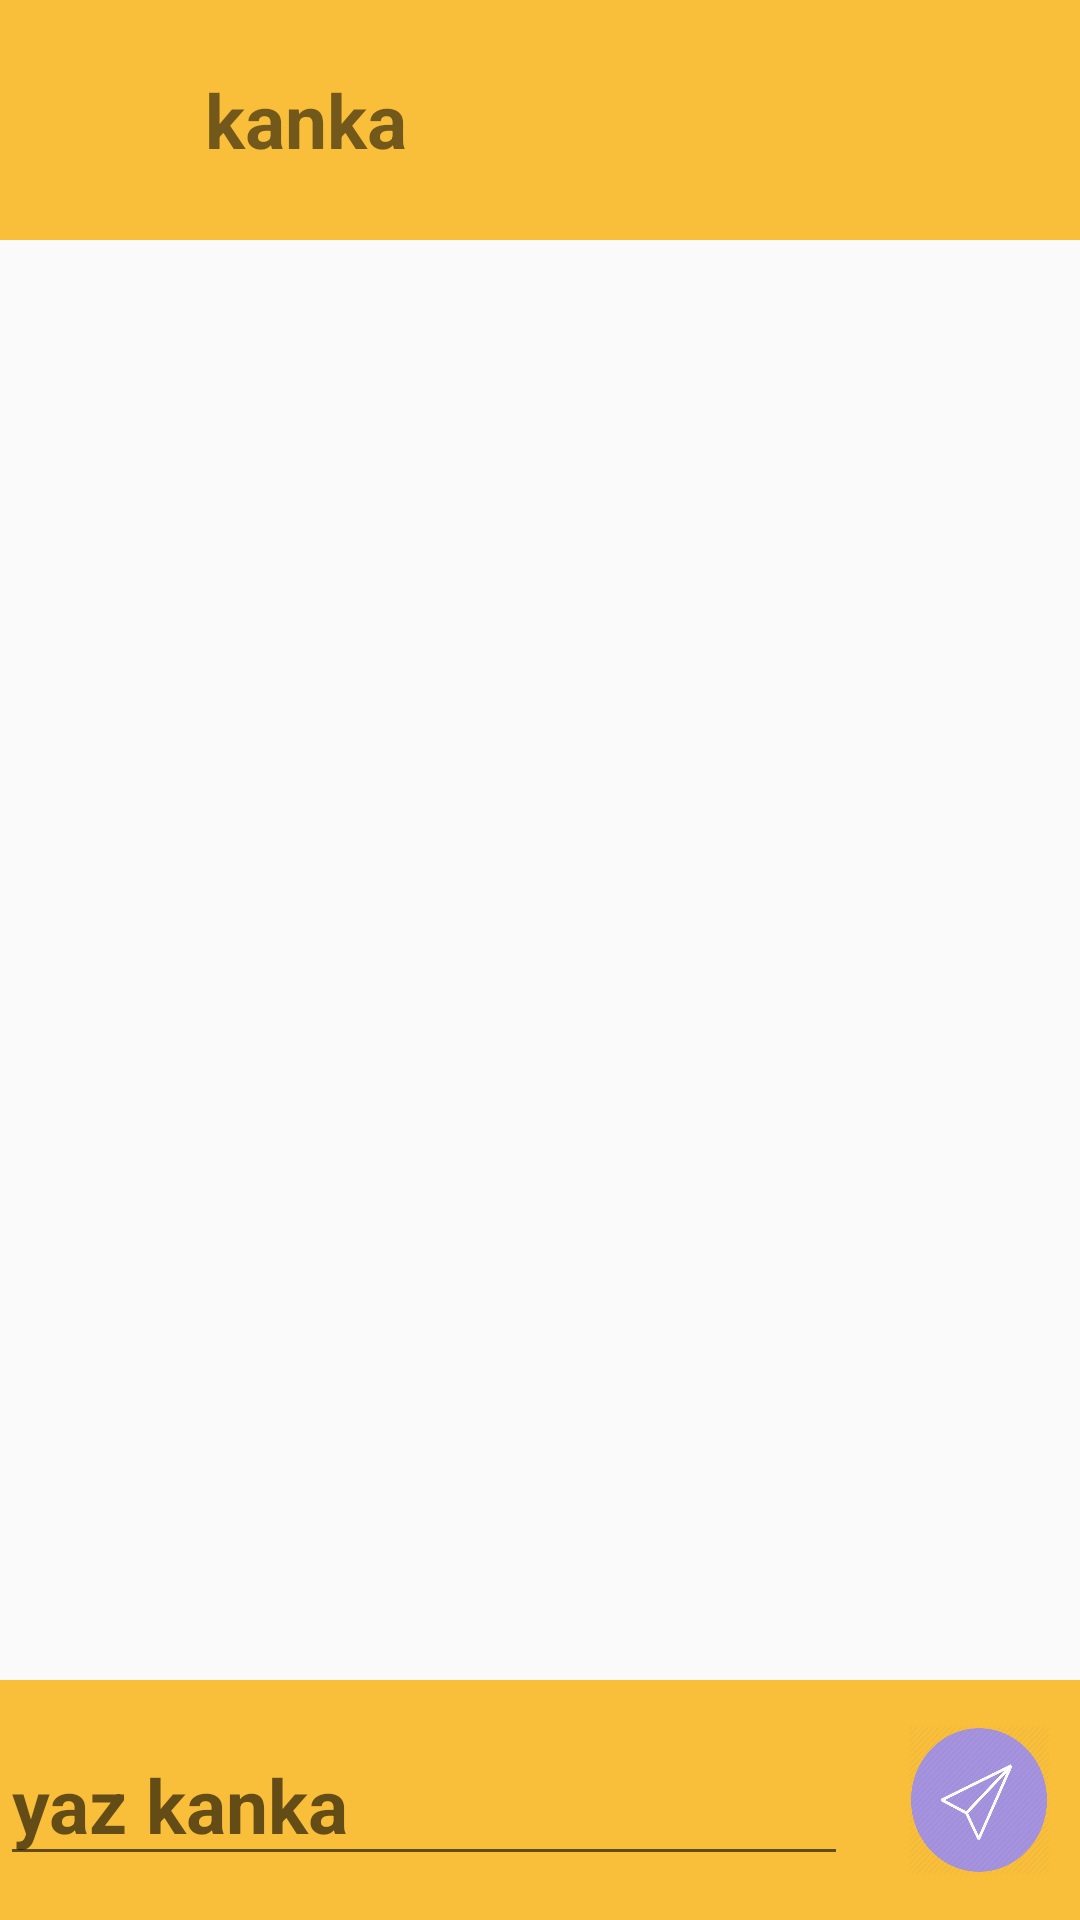

Screen size 1080px x 1920px. Icon name, then its center in pixels as [x,y]:
send: [979,1800]
